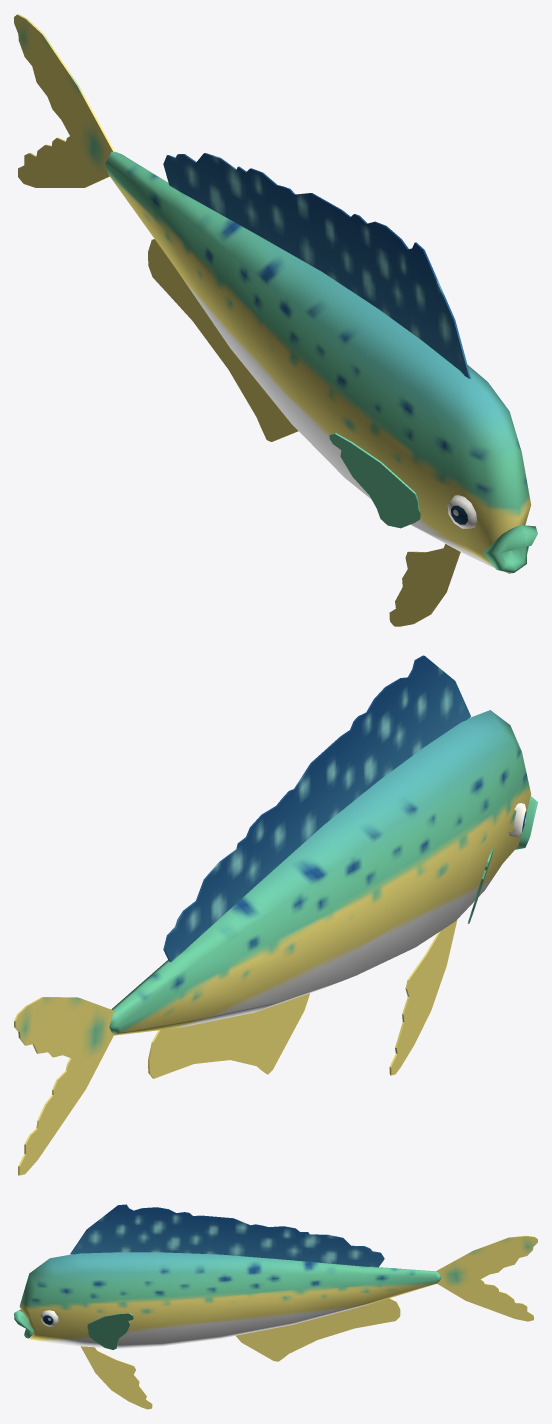
The picture shows the model from 3 angles, top to bottom: view 1: azimuth 30°, elevation 25°; view 2: azimuth 150°, elevation 25°; view 3: azimuth 270°, elevation 25°; orthographic projection. The views are drawn at different scales.
Parts seen in each view (by area): view 1: Fish_MahiMahi; view 2: Fish_MahiMahi; view 3: Fish_MahiMahi.
Part boxes in pixels (bbox=[...]): Fish_MahiMahi: bbox=[14, 14, 537, 626]; Fish_MahiMahi: bbox=[14, 655, 537, 1175]; Fish_MahiMahi: bbox=[14, 1204, 537, 1409].
Size of the model in its own units: 28.61 by 68.36 by 159.
